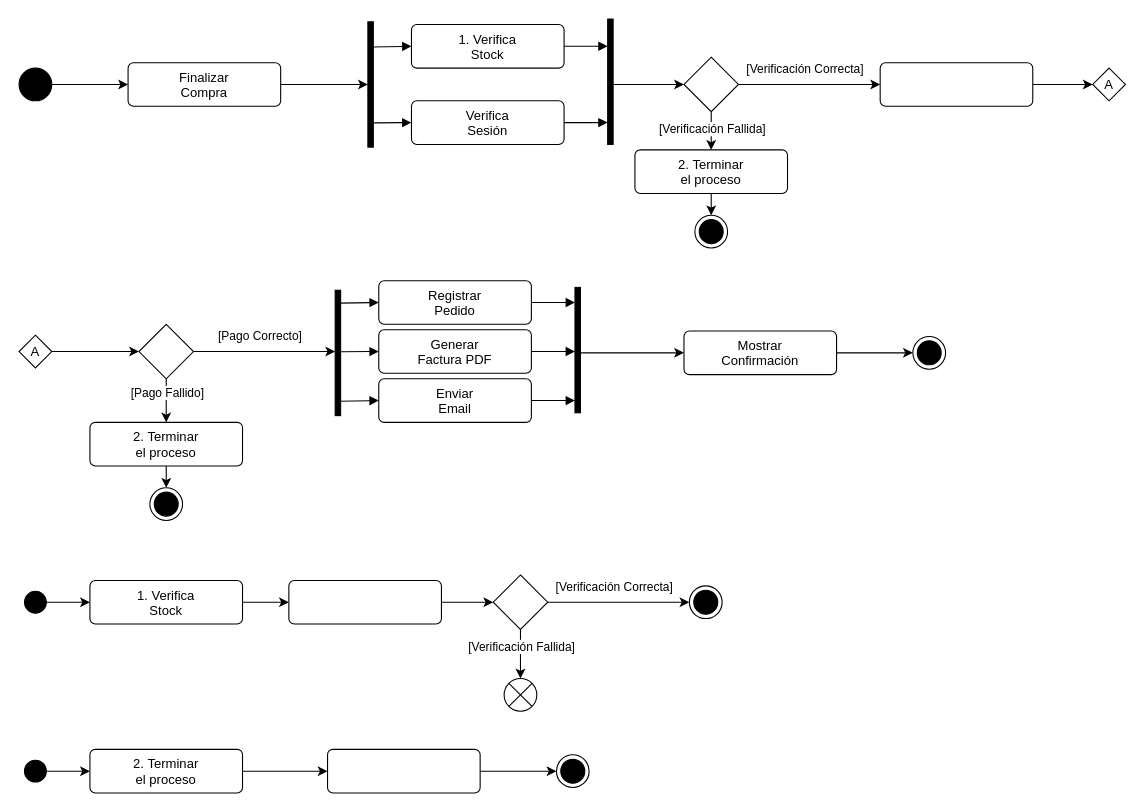
Image size: 1145x812. Some labels were removed from this diagram. Each missing label, with the centre of its shape:
"Mensaje de Error" belongs at [403,770].
"Mirar Almacenes" belongs at [364,601].
"Pasarela de Pago" belongs at [956,84].
